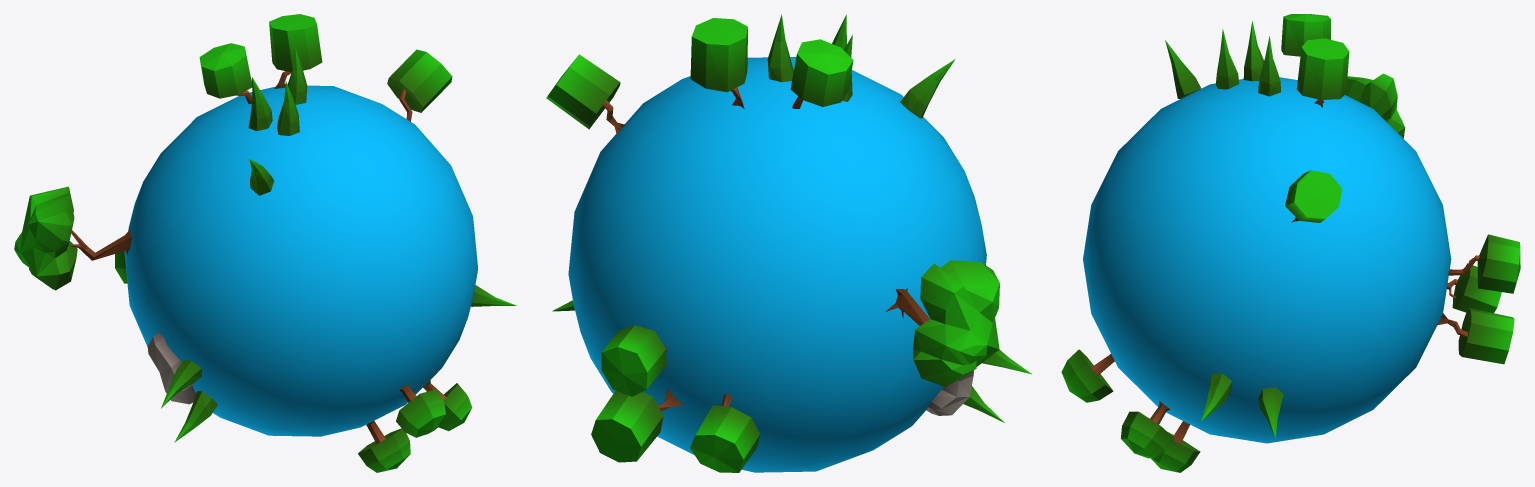
The model's file is planet_bliss.FBX.
The picture shows the model from 3 angles, left to right: view 1: azimuth 30°, elevation 25°; view 2: azimuth 150°, elevation 25°; view 3: azimuth 270°, elevation 25°; orthographic projection. The views are drawn at different scales.
Visible parts, largest first — view 1: planet_bliss_atmos, planet_bliss; view 2: planet_bliss_atmos, planet_bliss; view 3: planet_bliss_atmos, planet_bliss.
Boxes of the visible parts, x1,y1,x2,y2 form: planet_bliss_atmos: (124,85,477,436); planet_bliss: (14,14,516,472); planet_bliss_atmos: (568,57,986,472); planet_bliss: (546,14,1031,472); planet_bliss_atmos: (1083,77,1451,443); planet_bliss: (1061,14,1520,472).
Bounding box in the file's own units: 139 × 128 × 128.
